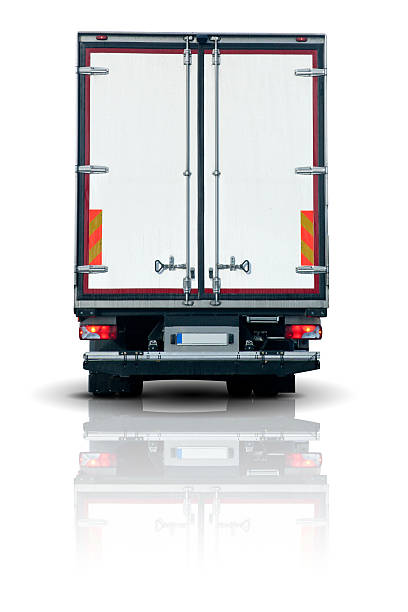Semi: (71, 29, 330, 399)
